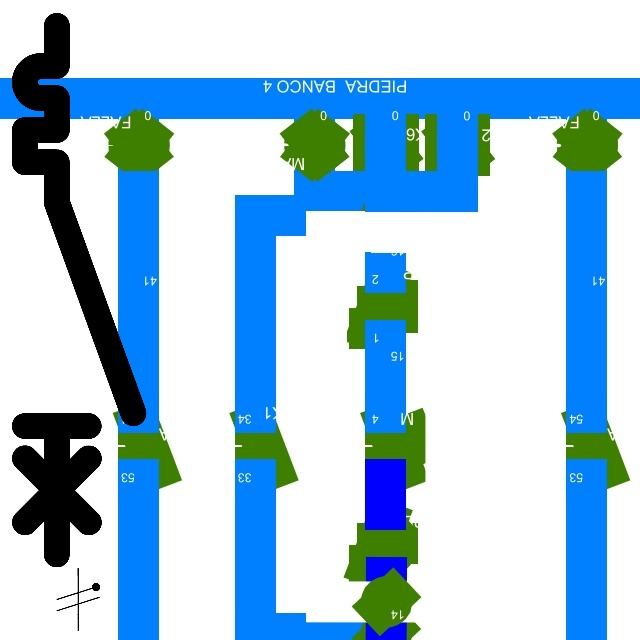interruptor_termomagnetico: (11, 12, 147, 568)
